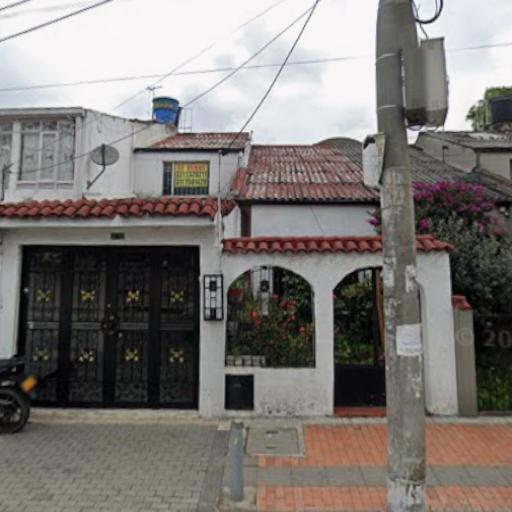poste: (371, 0, 450, 511)
